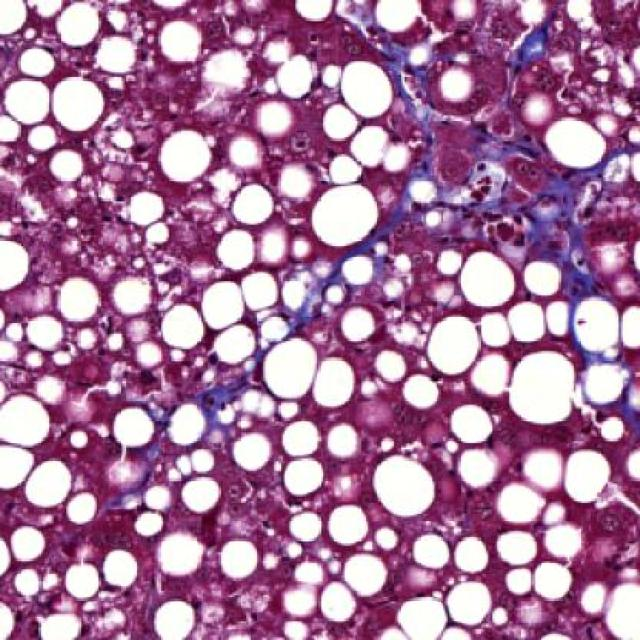fibrosis: (414, 152, 567, 251)
